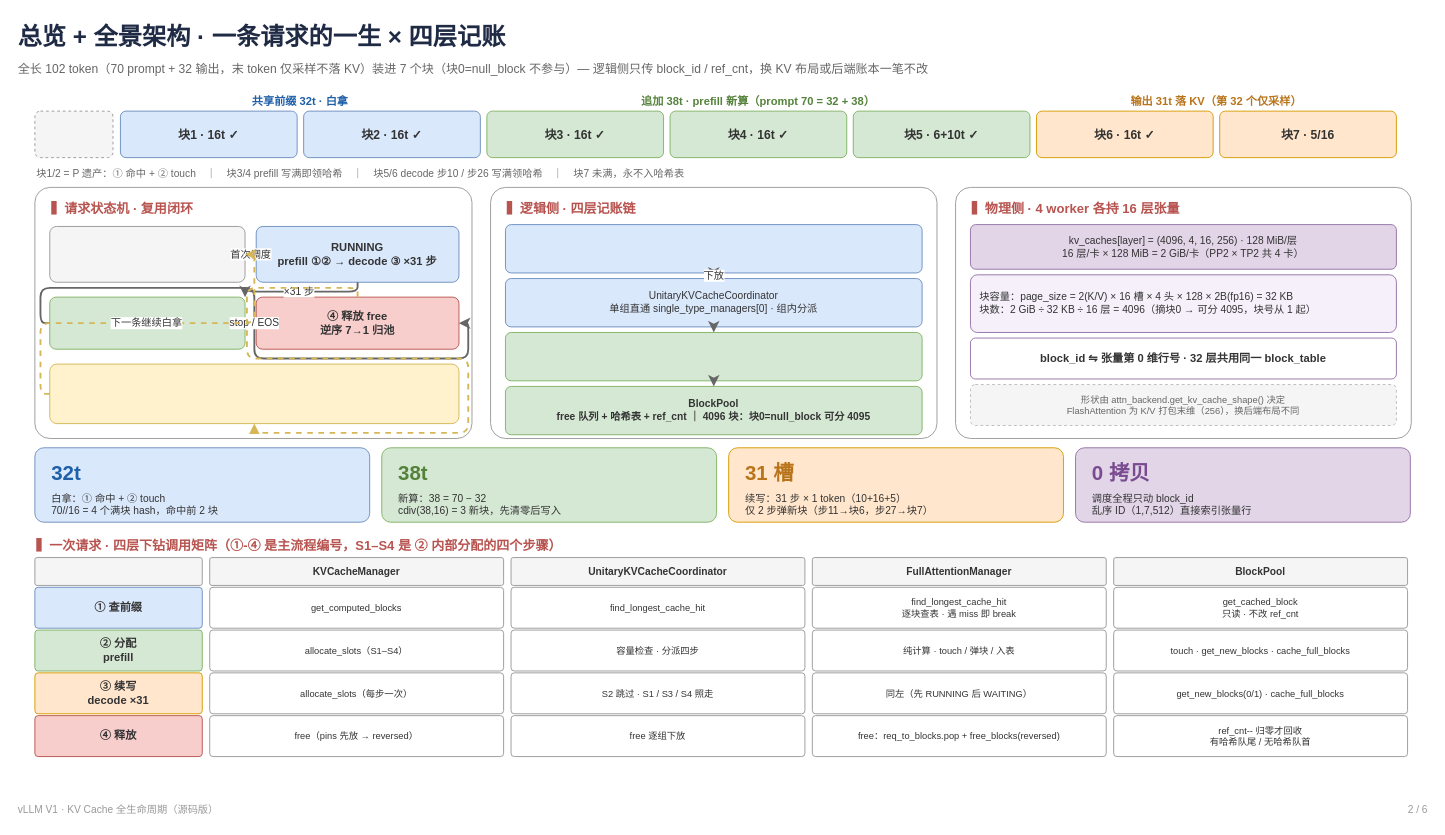
This 1445x835 diagram has some shape labels left out. Here are the shapes that lost their labels. From the top down, the centre of each, then its label:
At (73,134): "块0 null_block".
At (147,254): "WAITING 入队 · 预计算哈希（4 个满块）".
At (713,248): "KVCacheManager 编排时机 · 容量水位（S1：available vs required）".
At (147,322): "完成 32 输出集齐（stop/EOS）".
At (713,356): "FullAttentionManager FullAttention 专属算法（容量 / touch / 弹块 / 入表，纯计算）".
At (254,393): "带哈希块回池队尾（块7 无哈希插队首） → 下一条同前缀请求 ① 命中 → ② touch 白拿".
At (118,571): "阶段 ＼ 层".
